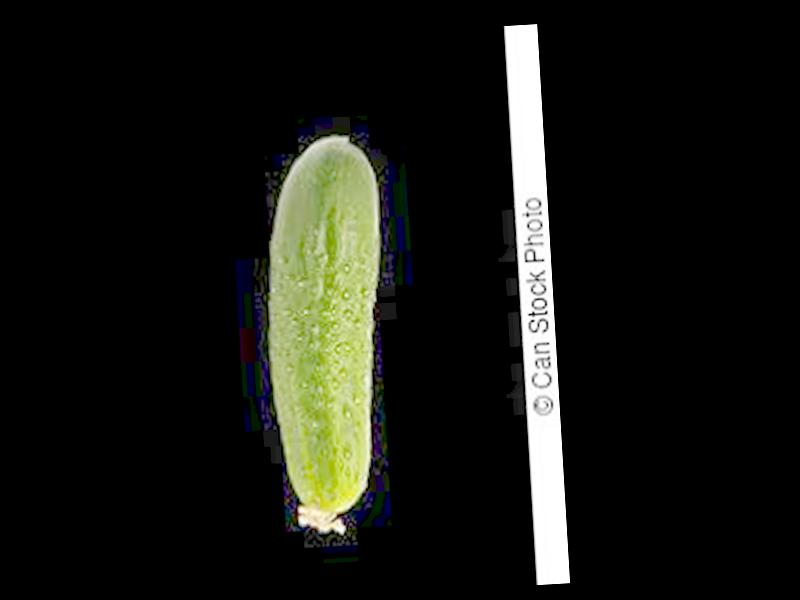Cucumber: (257, 134, 396, 537)
